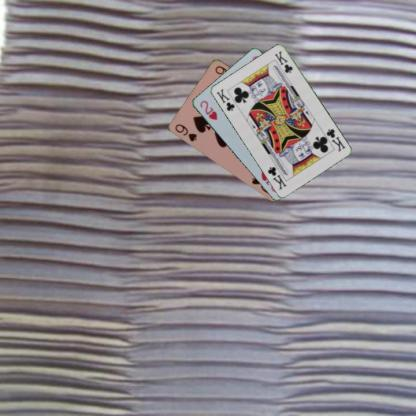2h: (197, 98, 218, 121)
9s: (172, 121, 199, 144)
Kc: (324, 126, 346, 153), (214, 86, 236, 112)
